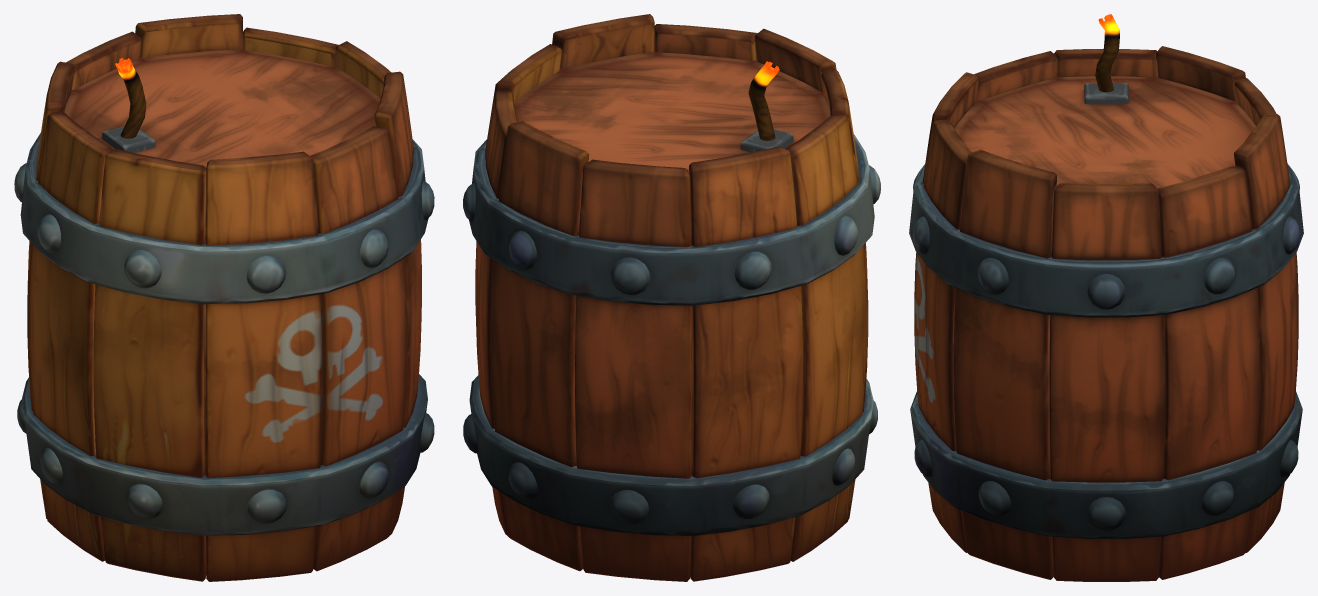
File: stylized_gun_powder_barrel.glb
3 renders of one model, left to right at view 1: azimuth 30°, elevation 25°; view 2: azimuth 150°, elevation 25°; view 3: azimuth 270°, elevation 25°, orthographic. The views are drawn at different scales.
Parts seen in each view (by area): view 1: polySurface11, polySurface9, pCylinder3, polySurface4, pCylinder2, pCylinder1, polySurface3, polySurface6, pPlatonic22, pPlatonic23, polySurface10, polySurface8 (+5 smaller); view 2: polySurface7, polySurface2, polySurface10, pCylinder3, pCylinder2, pCylinder1, polySurface3, polySurface8, pPlatonic22, pPlatonic23, polySurface6, polySurface4 (+5 smaller); view 3: polySurface1, polySurface6, polySurface8, pCylinder3, pCylinder2, pCylinder1, polySurface10, polySurface4, pPlatonic23, pPlatonic22, polySurface2, polySurface3 (+6 smaller).
Boxes of the visible parts, left/top/right/bottom form: polySurface11: left=205, top=151, right=322, bottom=581; polySurface9: left=93, top=149, right=206, bottom=581; pCylinder3: left=64, top=48, right=380, bottom=167; polySurface4: left=310, top=126, right=406, bottom=571; pCylinder2: left=20, top=133, right=428, bottom=304; pCylinder1: left=22, top=374, right=427, bottom=535; polySurface3: left=29, top=112, right=113, bottom=561; polySurface6: left=374, top=71, right=421, bottom=535; pPlatonic22: left=14, top=163, right=434, bottom=293; pPlatonic23: left=17, top=399, right=434, bottom=523; polySurface10: left=135, top=14, right=243, bottom=395; polySurface8: left=242, top=27, right=338, bottom=66; polySurface7: left=575, top=159, right=691, bottom=581; polySurface2: left=689, top=146, right=802, bottom=581; polySurface10: left=491, top=121, right=589, bottom=571; pCylinder3: left=514, top=51, right=830, bottom=172; pCylinder2: left=469, top=134, right=874, bottom=305; pCylinder1: left=469, top=375, right=873, bottom=535; polySurface3: left=785, top=115, right=866, bottom=561; polySurface8: left=475, top=91, right=517, bottom=535; pPlatonic22: left=463, top=165, right=880, bottom=294; pPlatonic23: left=463, top=400, right=877, bottom=524; polySurface6: left=552, top=14, right=654, bottom=68; polySurface4: left=654, top=24, right=757, bottom=362; polySurface1: left=1049, top=183, right=1164, bottom=581; polySurface6: left=953, top=149, right=1056, bottom=579; polySurface8: left=1158, top=166, right=1259, bottom=579; pCylinder3: left=954, top=76, right=1255, bottom=188; pCylinder2: left=909, top=163, right=1303, bottom=317; pCylinder1: left=910, top=391, right=1302, bottom=538; polySurface10: left=1234, top=114, right=1298, bottom=552; polySurface4: left=914, top=120, right=971, bottom=552; pPlatonic23: left=914, top=440, right=1298, bottom=530; pPlatonic22: left=913, top=171, right=1299, bottom=308; polySurface2: left=1156, top=46, right=1245, bottom=100; polySurface3: left=1054, top=49, right=1157, bottom=77.
Size of the model in its own units: 0.7024 by 0.8651 by 0.6866.
1 material, 1 textured.
